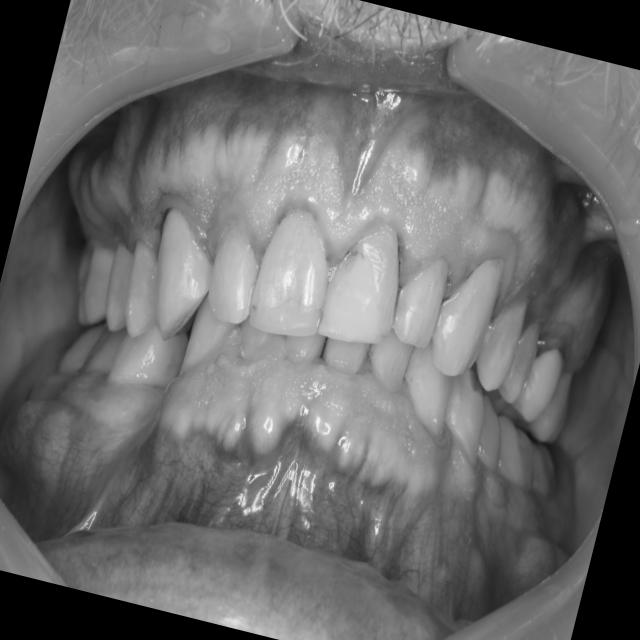tooth: (299, 174, 433, 365), (228, 179, 364, 360), (126, 196, 240, 356), (415, 222, 520, 390), (188, 208, 292, 346), (381, 238, 465, 371), (102, 233, 188, 357), (459, 278, 539, 406), (387, 329, 468, 447), (102, 316, 191, 410), (429, 362, 503, 472), (83, 223, 150, 340), (172, 288, 246, 393), (508, 320, 573, 437), (490, 301, 553, 418), (480, 409, 551, 500), (357, 323, 421, 403), (462, 389, 518, 479), (535, 360, 585, 458), (71, 239, 125, 329), (223, 301, 288, 373), (313, 316, 378, 384), (61, 236, 107, 329), (275, 314, 333, 381), (51, 318, 105, 385), (520, 437, 570, 505), (80, 324, 125, 387)
